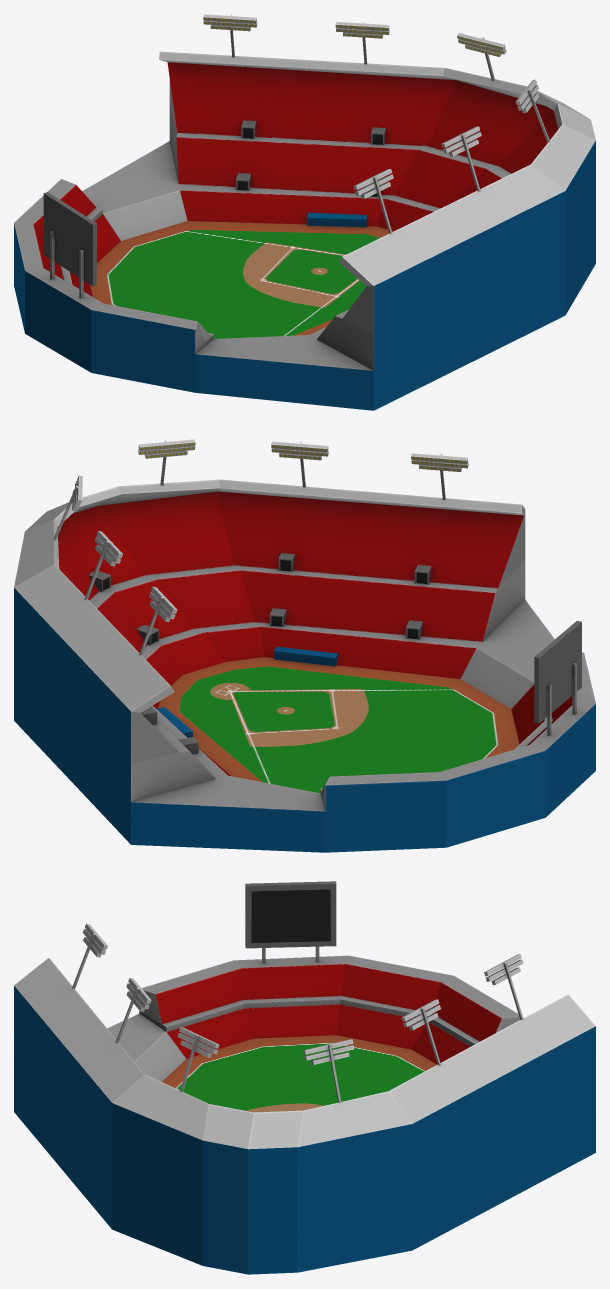
The model's file is wall_ballpark_ballpark_mesh_lev5.glb.
3 renders of one model, top to bottom at view 1: azimuth 30°, elevation 25°; view 2: azimuth 150°, elevation 25°; view 3: azimuth 270°, elevation 25°, orthographic. The views are drawn at different scales.
Parts seen in each view (by area): view 1: wall_ballpark_ballpark_mesh_lev5; view 2: wall_ballpark_ballpark_mesh_lev5; view 3: wall_ballpark_ballpark_mesh_lev5.
Part boxes in pixels (<box>): wall_ballpark_ballpark_mesh_lev5: <box>14,14,595,410</box>; wall_ballpark_ballpark_mesh_lev5: <box>14,439,595,852</box>; wall_ballpark_ballpark_mesh_lev5: <box>14,881,595,1274</box>.
Size of the model in its own units: 44.39 by 16.03 by 42.66.
Materials: 1 (1 with a texture image).
